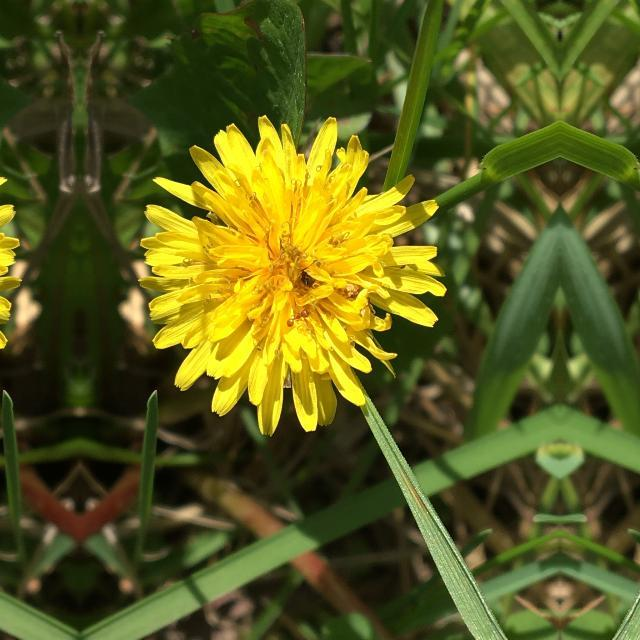Temnothorax: (284, 298, 312, 332)
